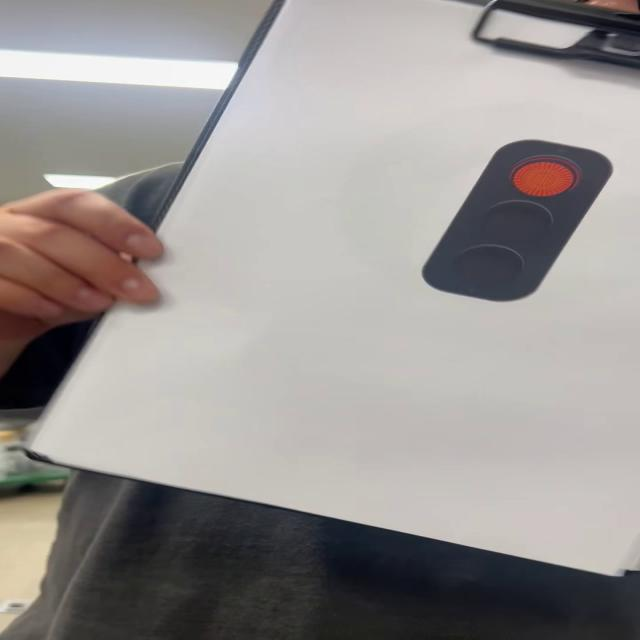red: (417, 143, 610, 303)
